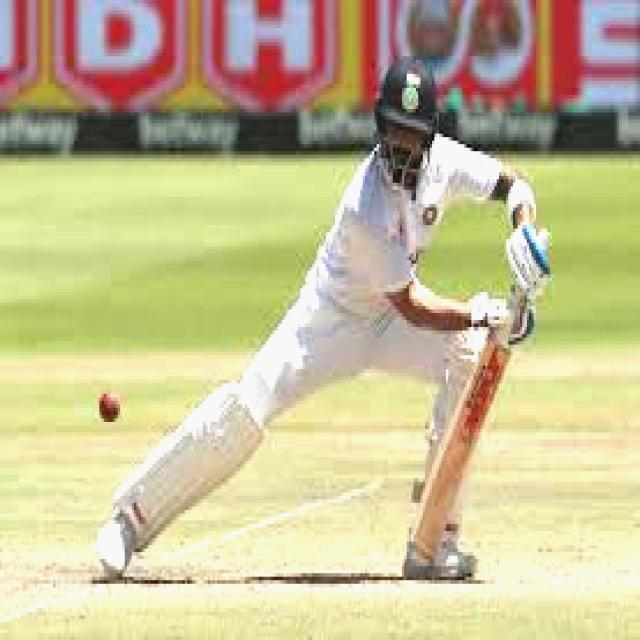bat: (400, 333, 511, 578)
toe: (410, 533, 439, 562)
